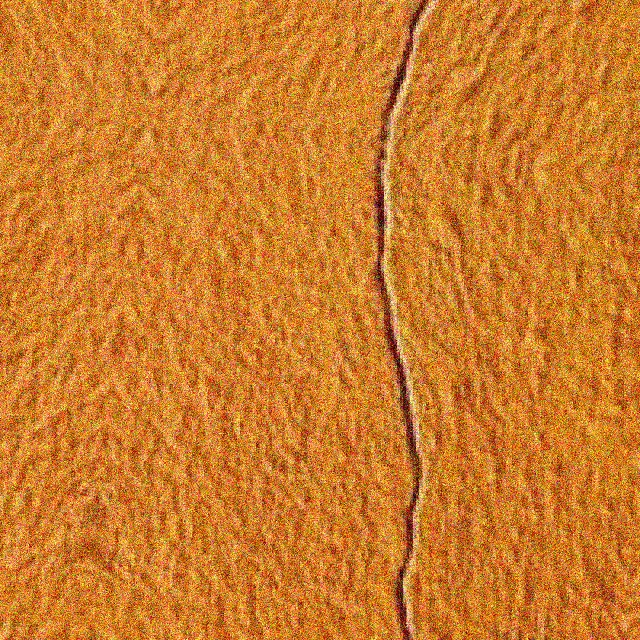SurfaceCrack: (338, 0, 478, 640)
